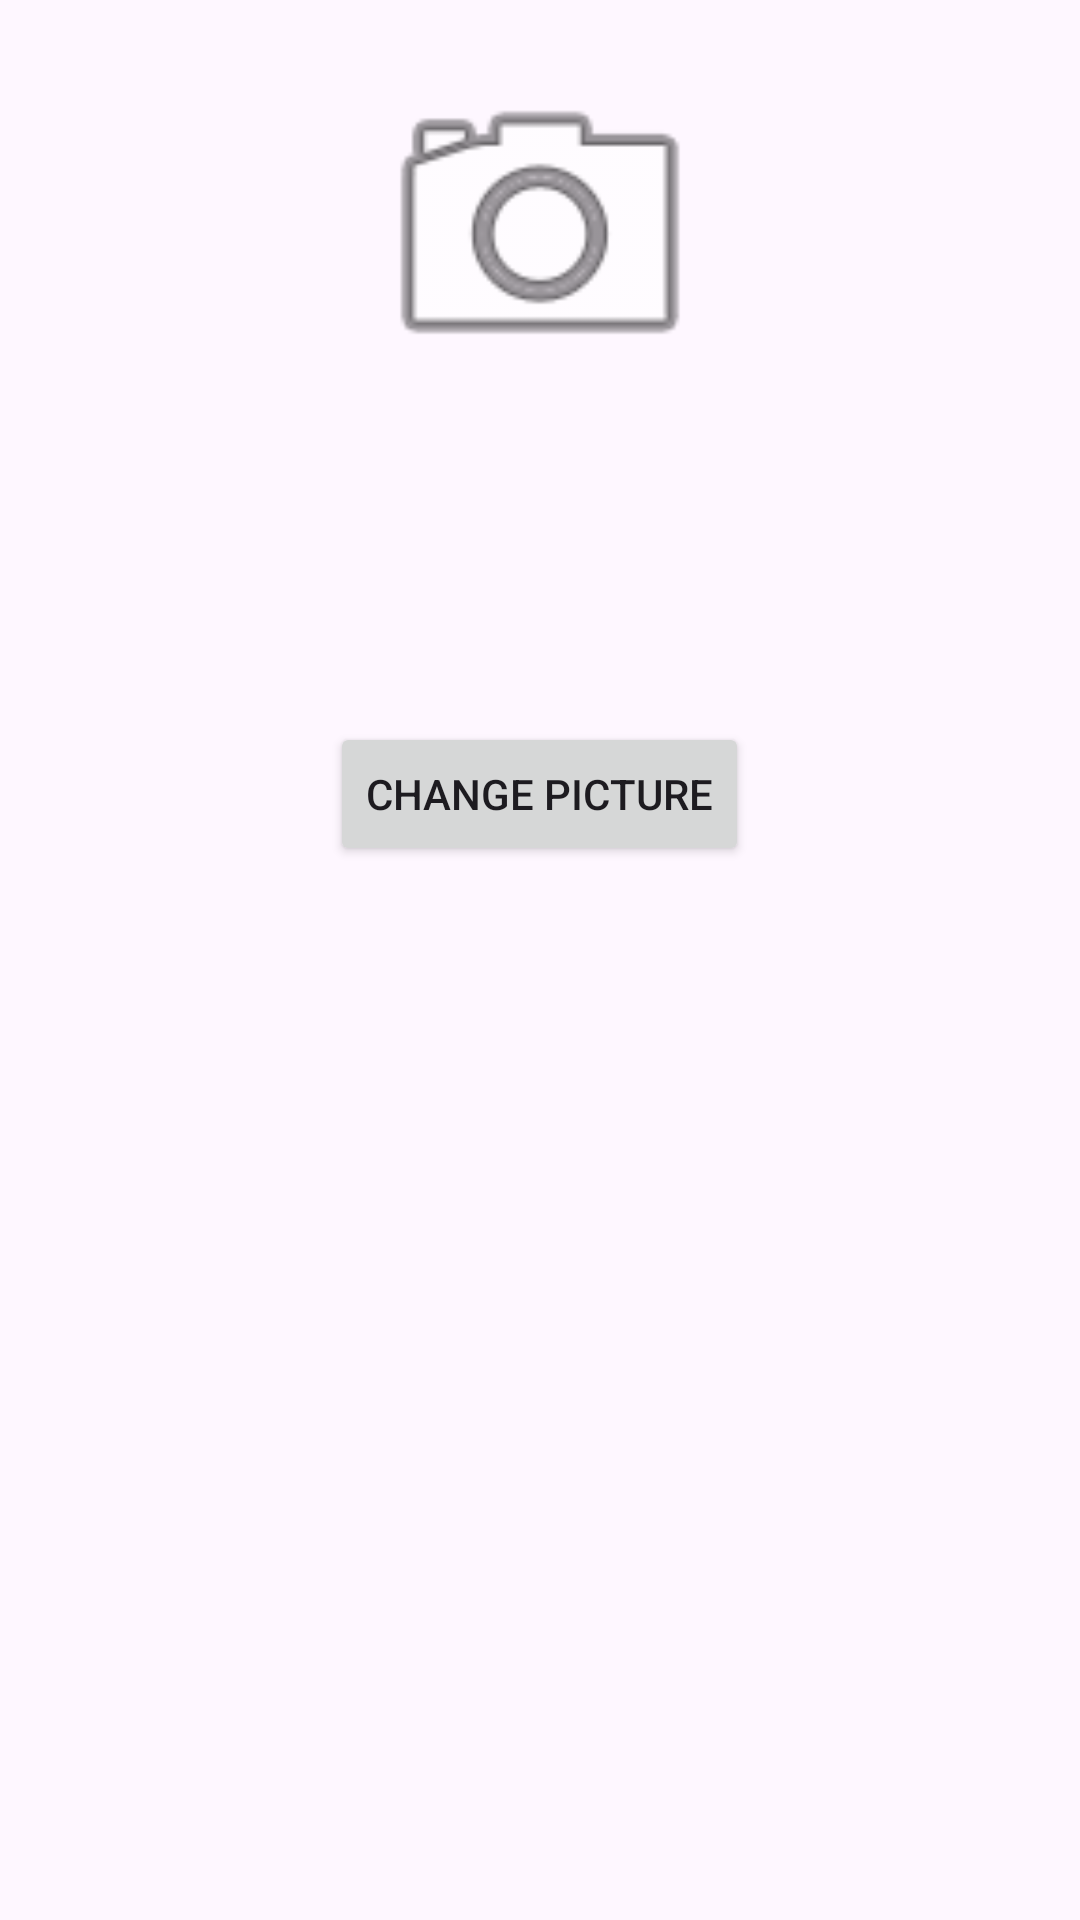

Icons on this 1080*1920 Android screen, each with the point to tap as point (x, y):
camera: point (540, 222)
